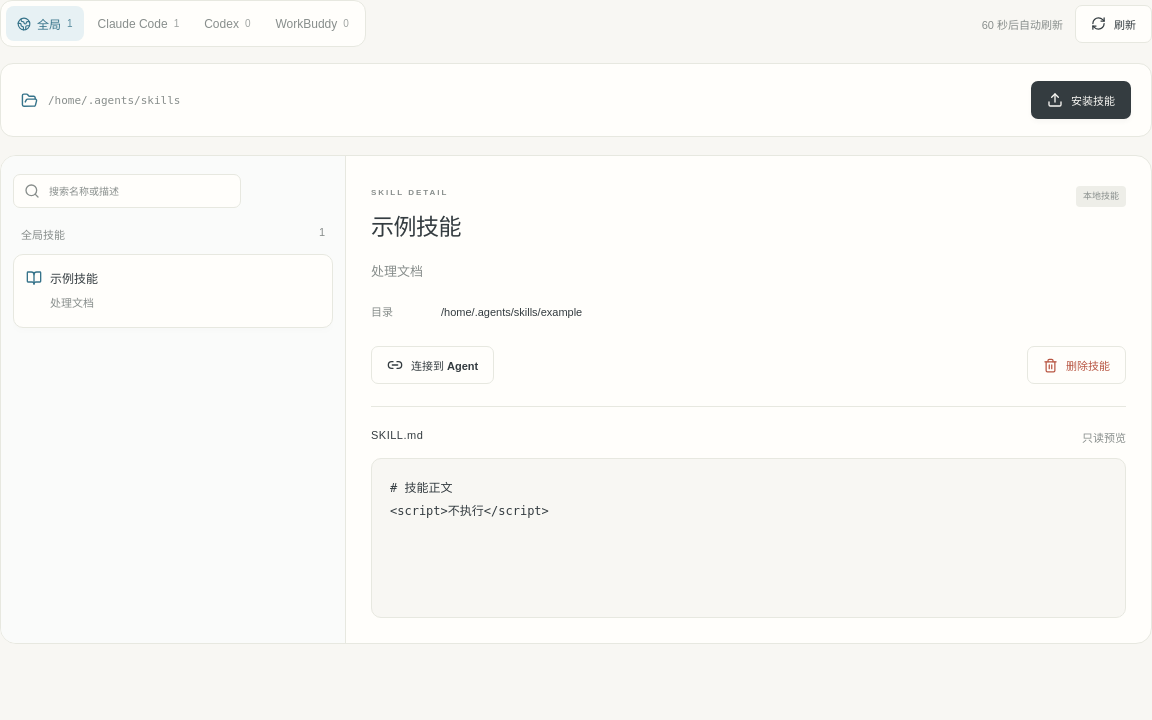
it: skill confirmation boundaries › commits only selected reviewed install candidates
The width and height of the screenshot is (1152, 720).
Expected: the option "示例技能 处理文档" is shown, [13, 254, 333, 328]
Click the button "安装技能".
click(1081, 100)  # box [1031, 81, 1131, 119]
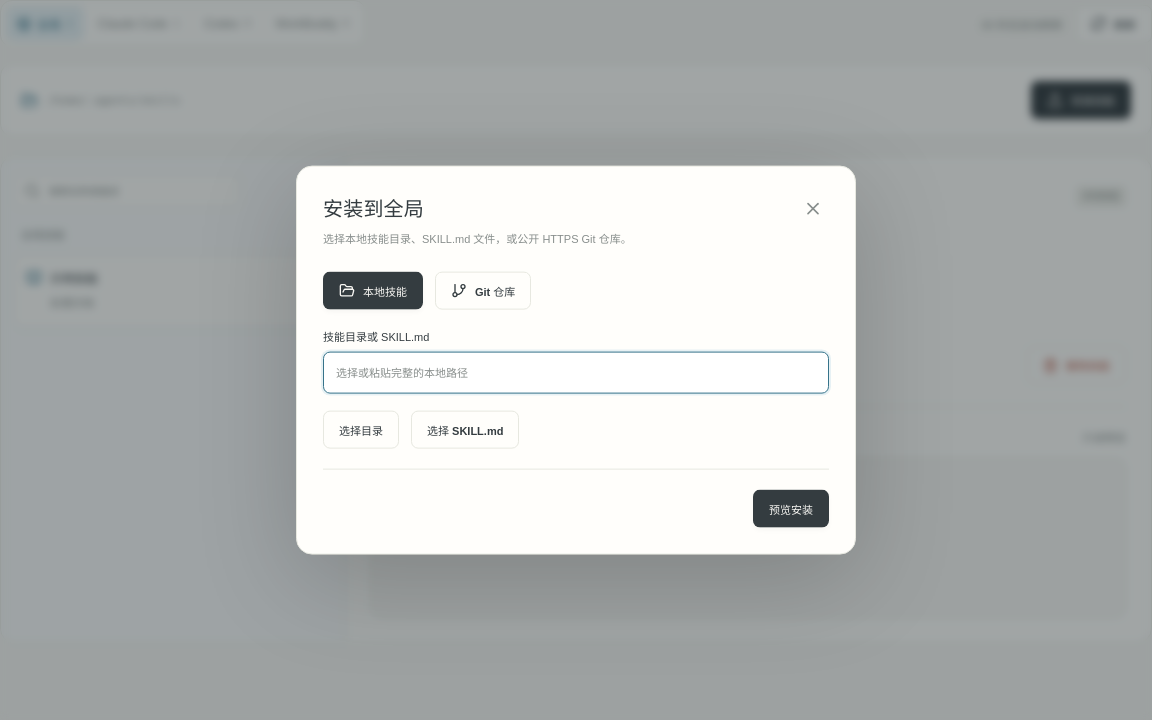
Click the button "Git 仓库".
click(483, 290)  # box [435, 271, 531, 309]
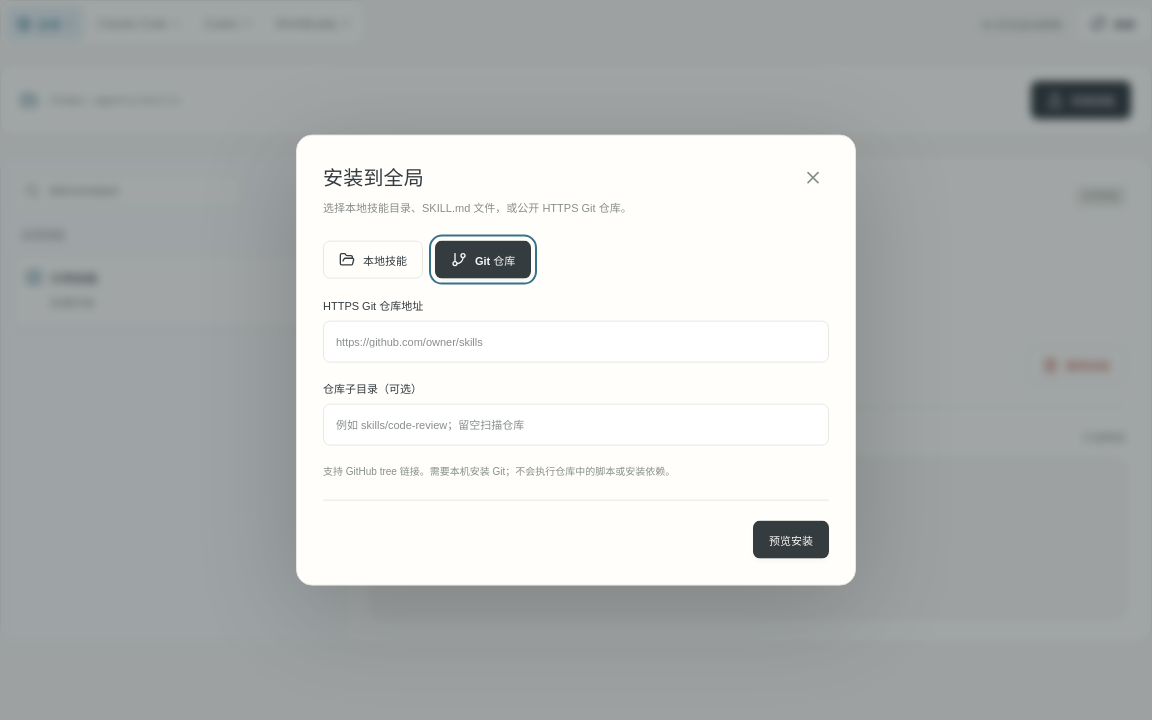
Type "https://example.com/repo.git" into the field labelled "HTTPS Git 仓库地址".
click(576, 341); type("https://example.com/repo.git")  # box [323, 320, 829, 362]
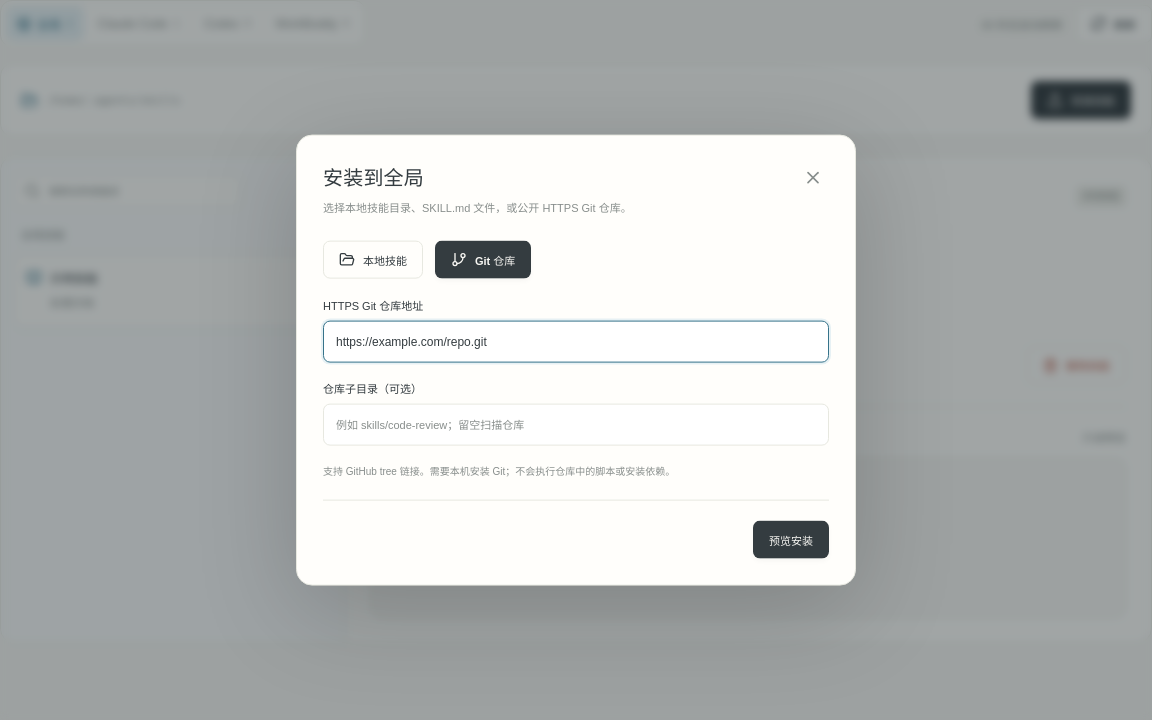
Click the button "预览安装".
click(791, 539)  # box [753, 520, 829, 558]
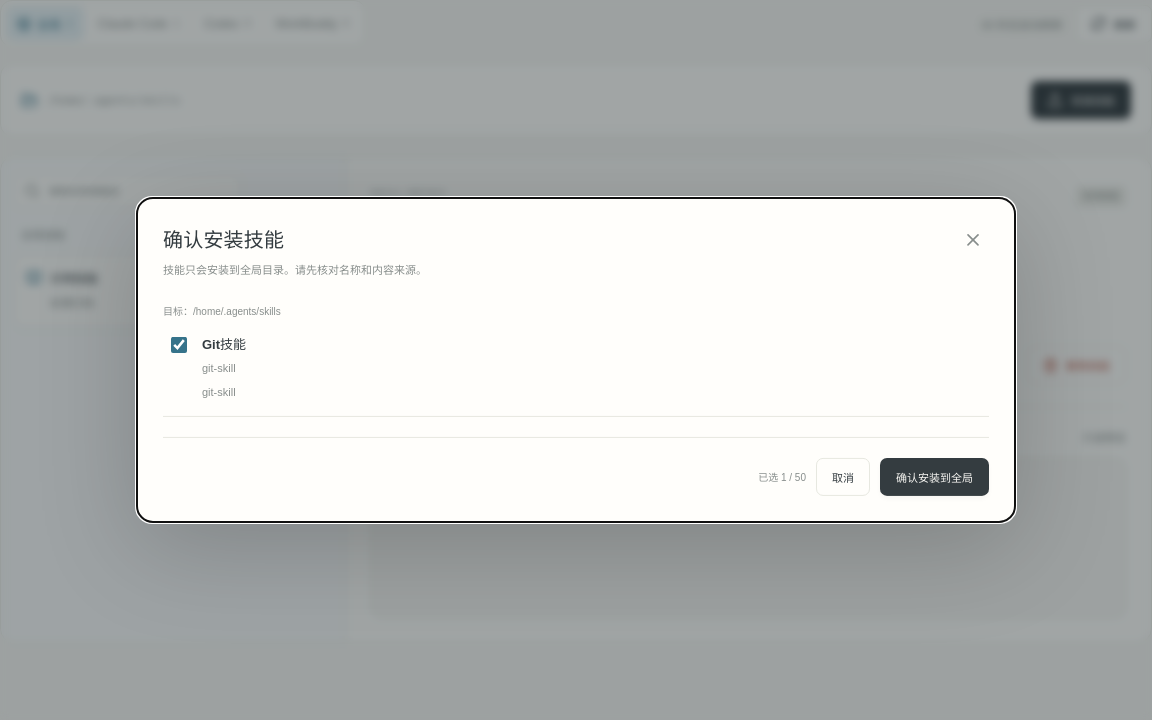
Click the button "确认安装到全局".
click(934, 477)  # box [880, 458, 989, 496]
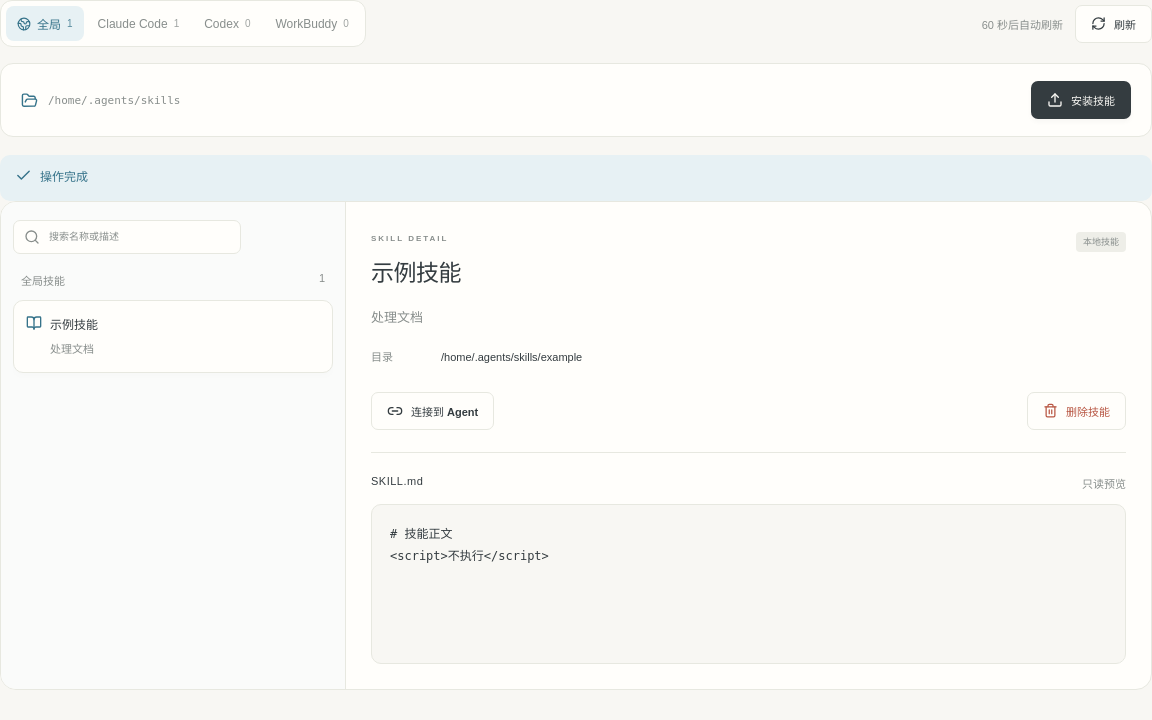
Expected: the text "操作完成" is shown, [0, 155, 1151, 201]
